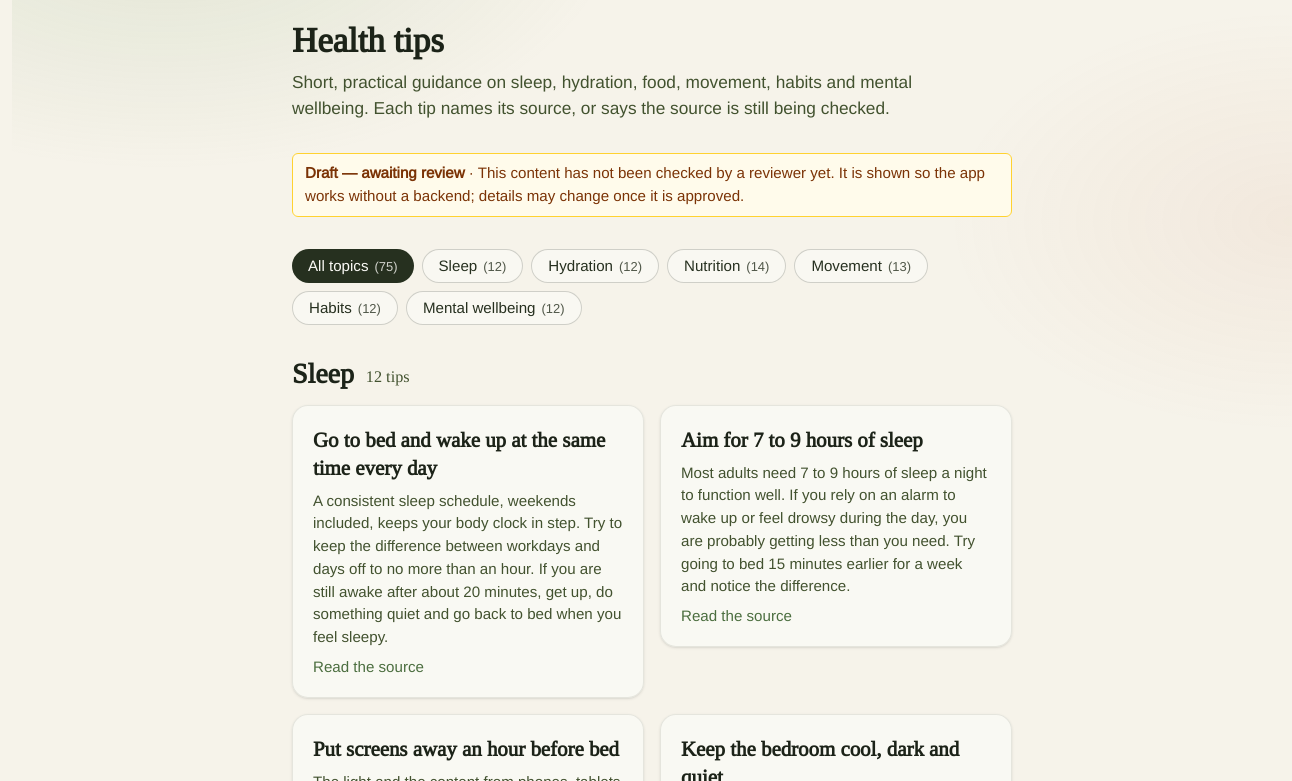
Test case: <TipsPage> with the bundled source › filters to sleep tips only when the sleep chip is clicked, and writes the URL
The image size is (1292, 781).
Click the radio button labelled "Sleep(12)" at x=472, y=266, box [422,248,523,282]
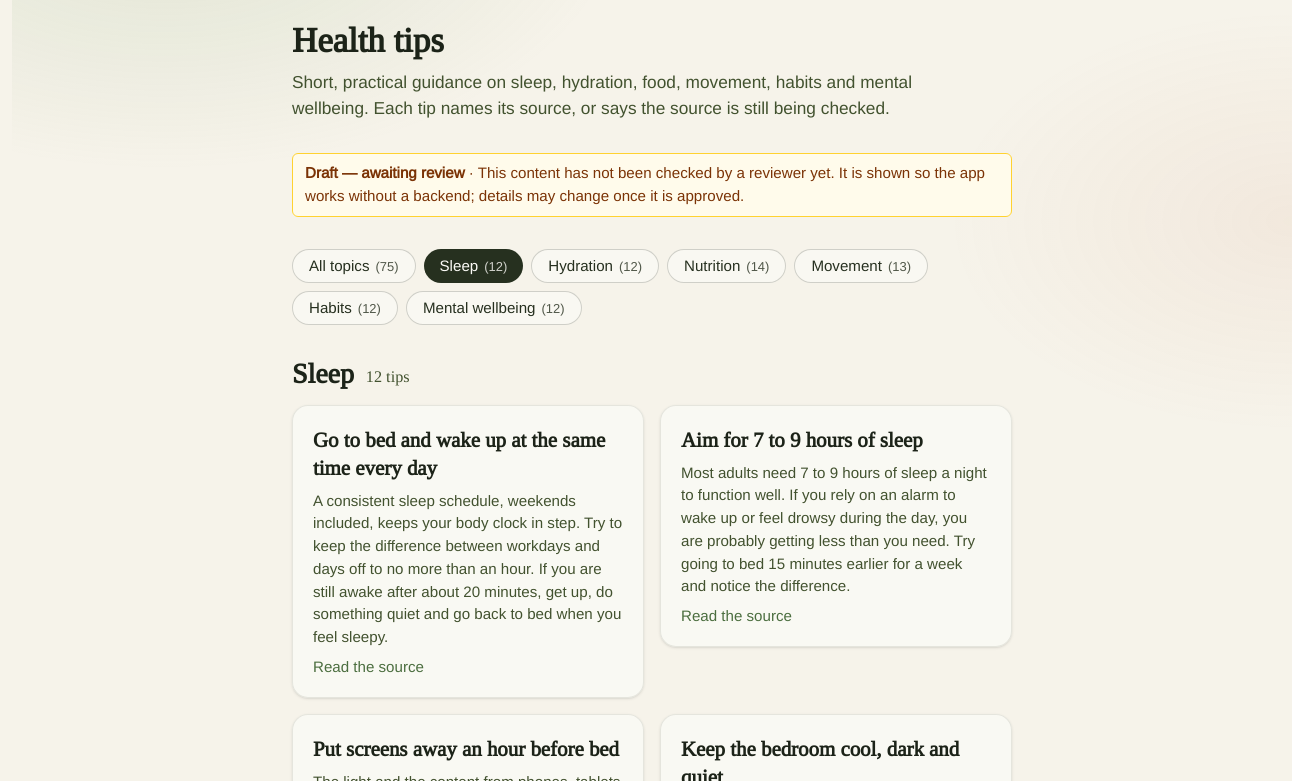
Expected: the heading "Sleep12 tips" is shown, [292,354,410,390]
Back to all.
Click the radio button labelled "All topics(75)" at x=354, y=266, box [292,248,416,282]
(page scrolled)
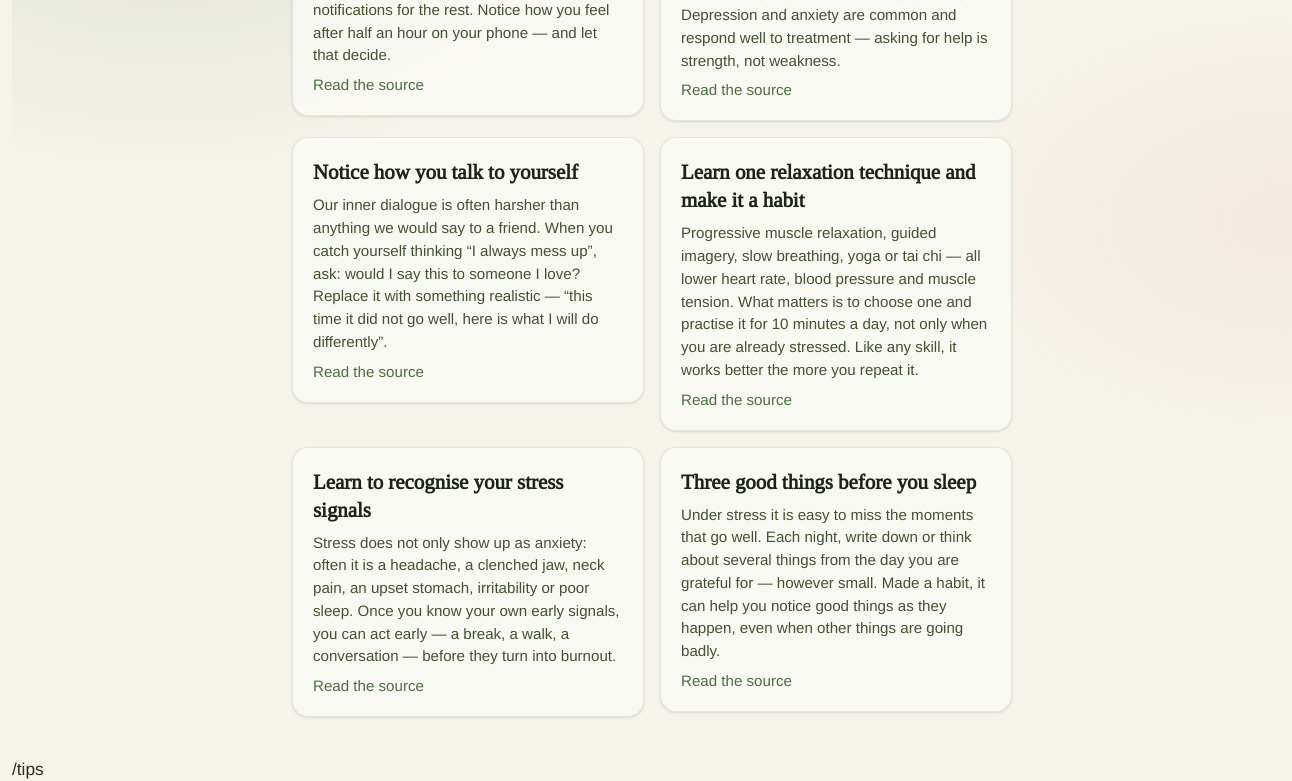
Expected: the text with test id "location" reads "/tips", [12,759,44,779]
